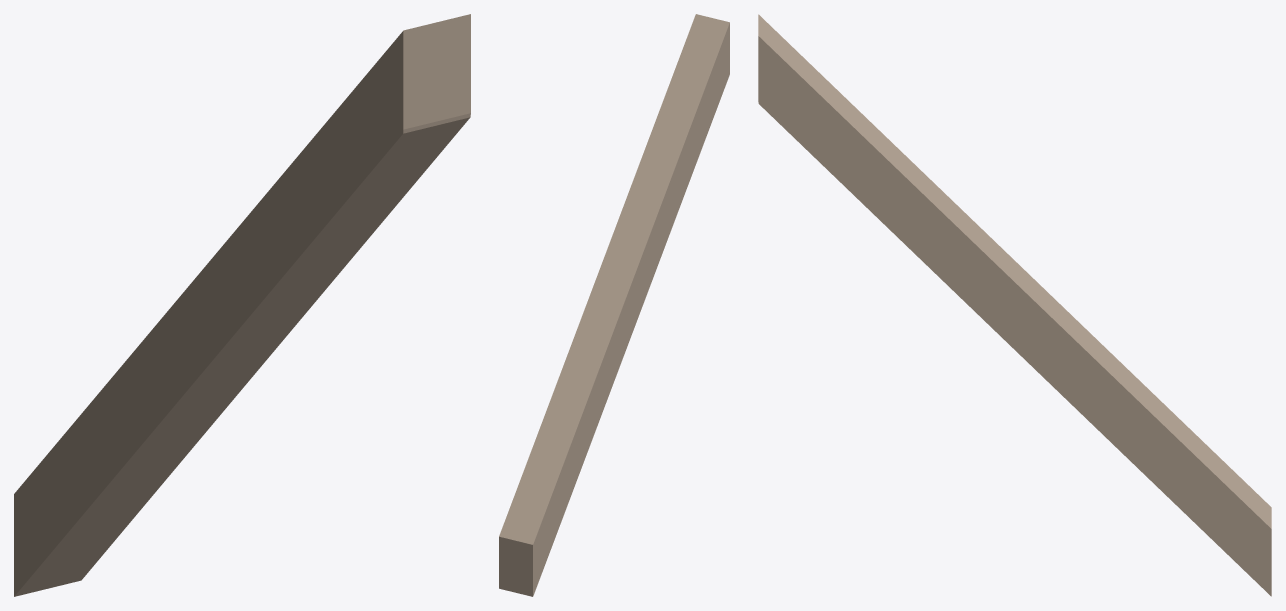
Rendered from Stucco_Prop_Support_Angled_Large.glb.
3 renders of one model, left to right at view 1: azimuth 30°, elevation 25°; view 2: azimuth 150°, elevation 25°; view 3: azimuth 270°, elevation 25°, orthographic. The views are drawn at different scales.
Visible parts, largest first — view 1: object1; view 2: object1; view 3: object1.
Part boxes in pixels (x1,y1,x2,y2): object1: (14, 14, 470, 596); object1: (499, 14, 729, 596); object1: (758, 14, 1271, 596).
Bounding box in the file's own units: 0.1 × 1.21 × 1.
